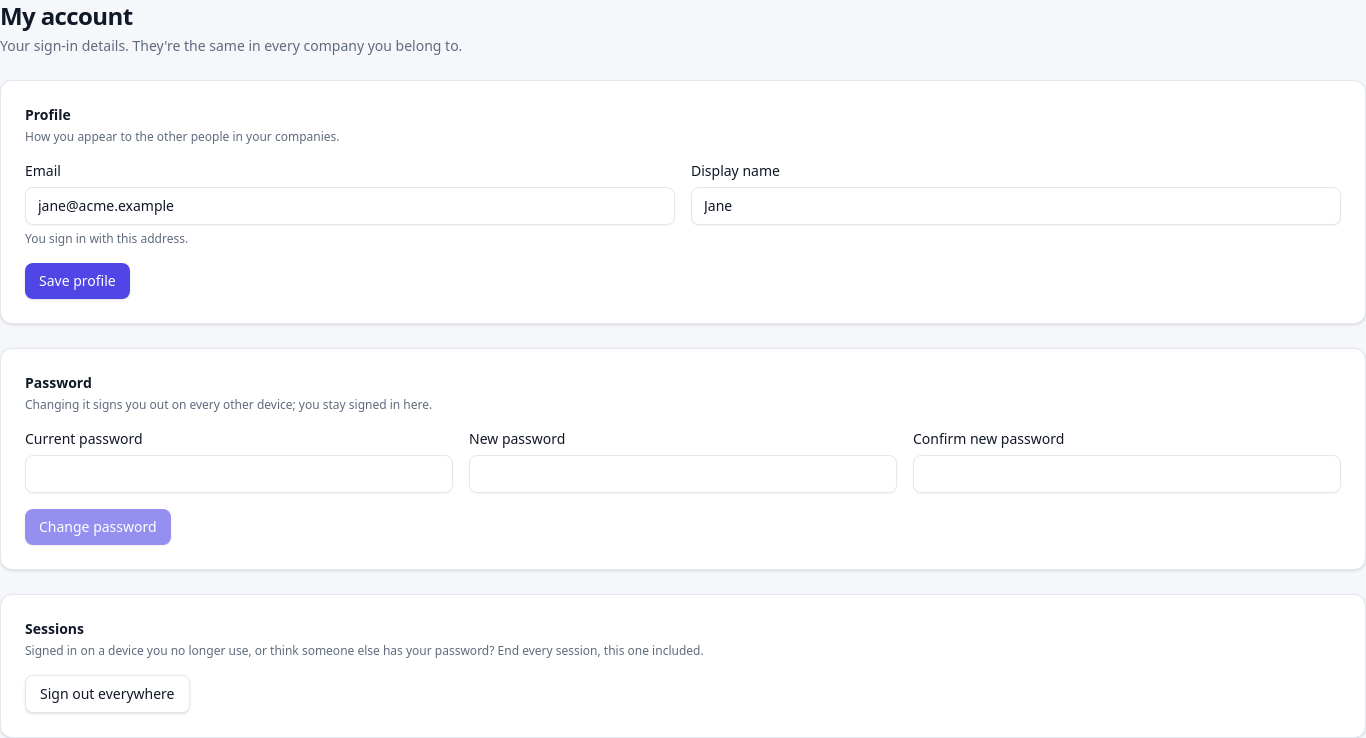
AccountPage › shows why the server refused a password change
The width and height of the screenshot is (1366, 738).
Step 1. Type "Wrong-Passw0rd!" into the password field labelled "Current password" → (239, 474), box [25,455,453,493]
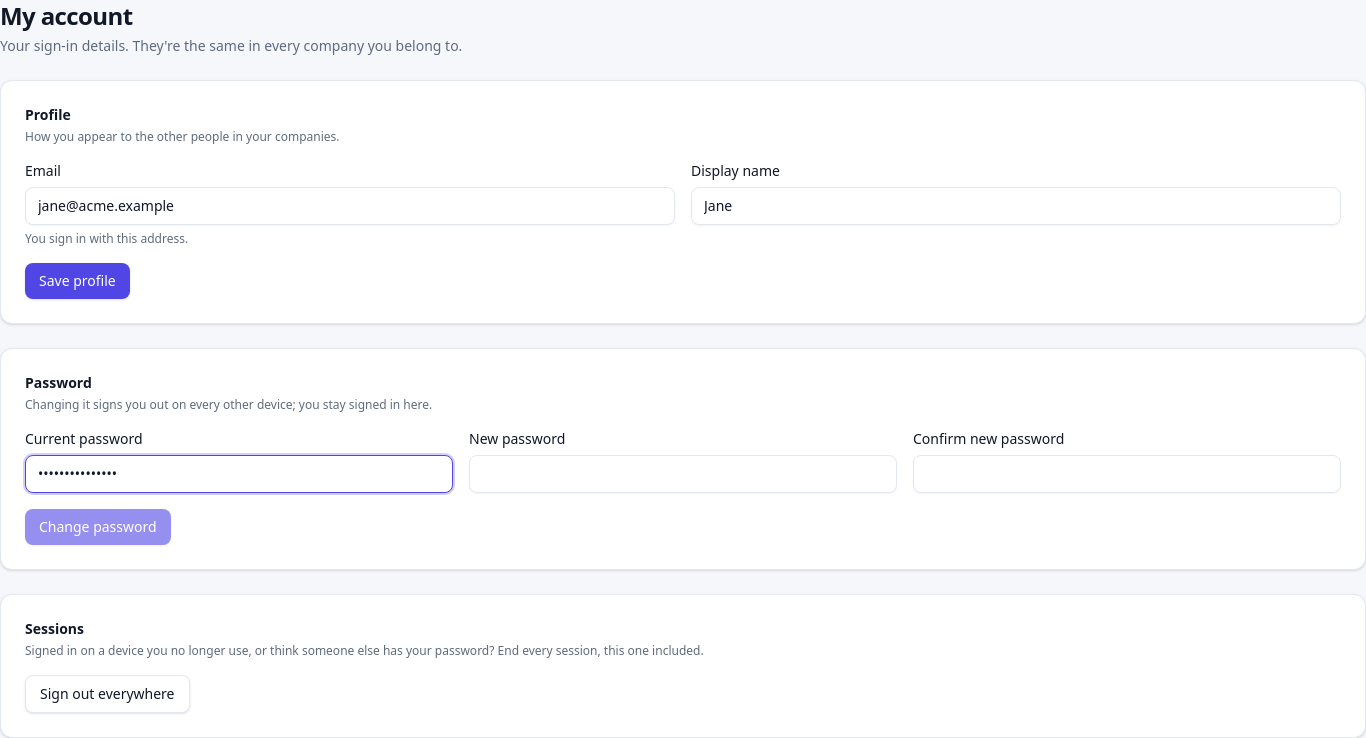
Step 2. Type "N3w-Passw0rd!" into the password field labelled "New password" → (683, 474), box [469,455,897,493]
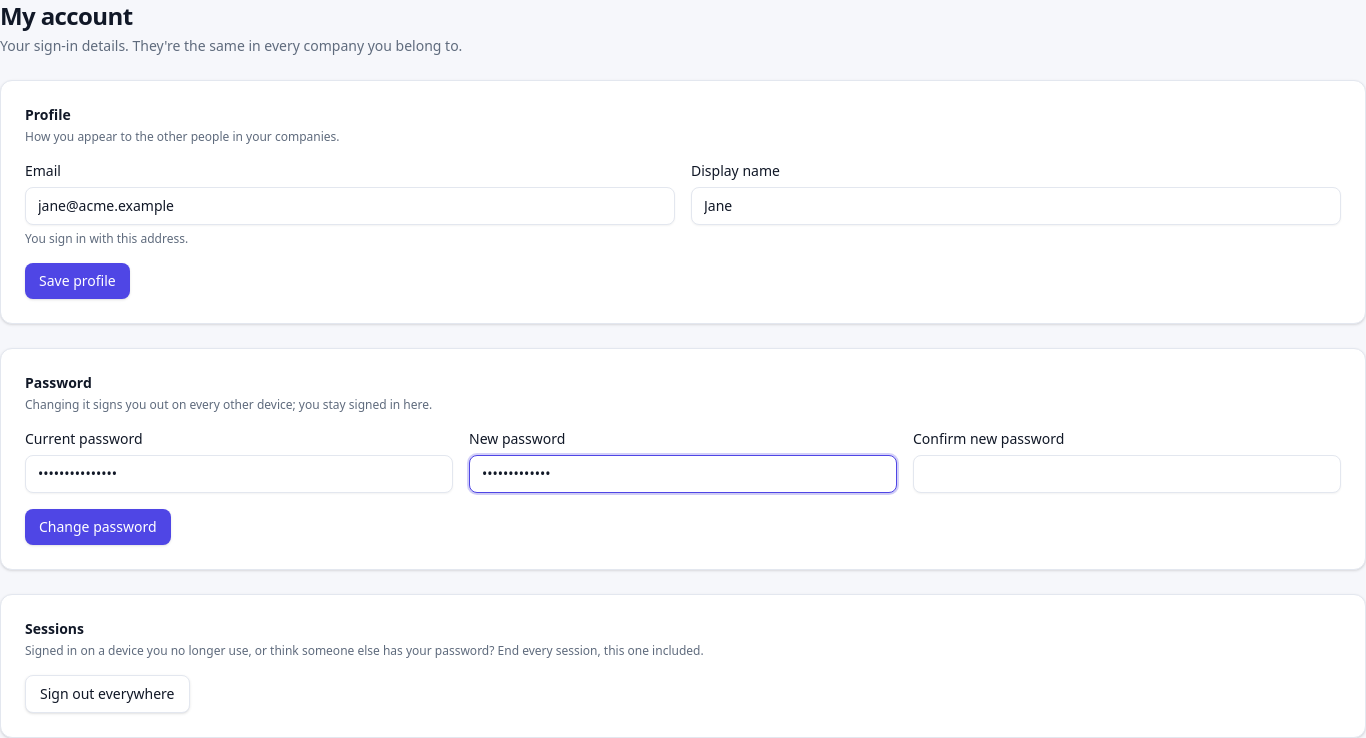
Step 3. Type "N3w-Passw0rd!" into the password field labelled "Confirm new password" → (1127, 474), box [913,455,1341,493]
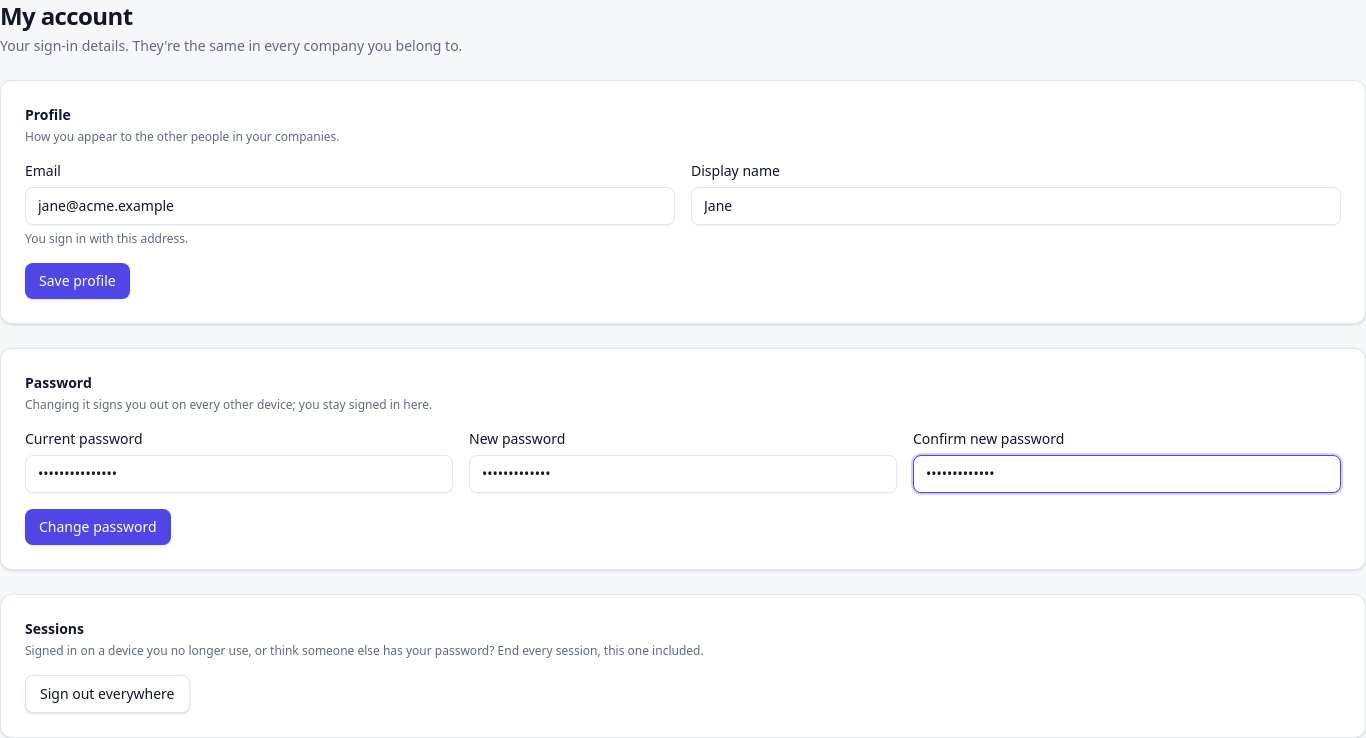
Step 4. Click the button "Change password" → (98, 527), box [25,509,171,545]
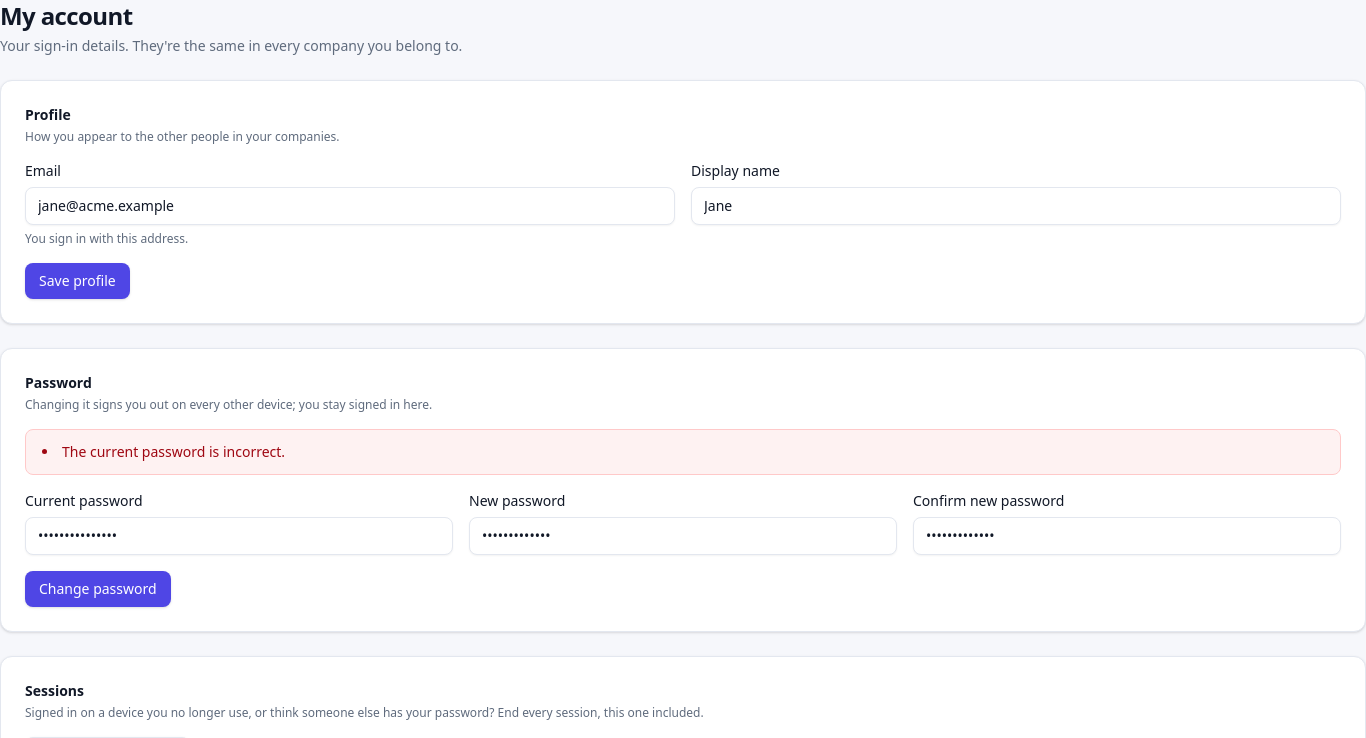
Result: the message reads "The current password is incorrect." at [62,442,285,461]
